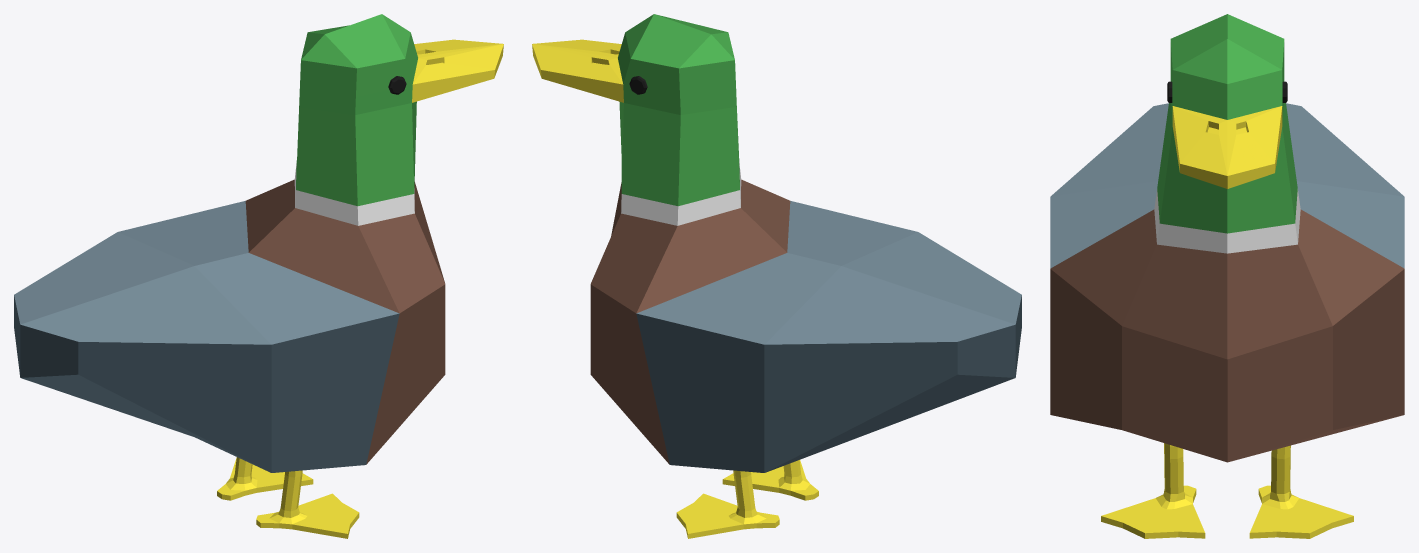
Rendered from animals-duck-081.glb.
3 views of the same model, side by side, from view 1: azimuth 30°, elevation 25°; view 2: azimuth 150°, elevation 25°; view 3: azimuth 270°, elevation 25° (orthographic). The views are drawn at different scales.
Parts seen in each view (by area): view 1: Duck_01_Cube.045; view 2: Duck_01_Cube.045; view 3: Duck_01_Cube.045.
Part boxes in pixels (x1,y1,x2,y2): Duck_01_Cube.045: (14, 14, 503, 538); Duck_01_Cube.045: (532, 14, 1021, 538); Duck_01_Cube.045: (1050, 14, 1404, 538).
Bounding box in the file's own units: 10.76 × 9.84 × 5.93.
